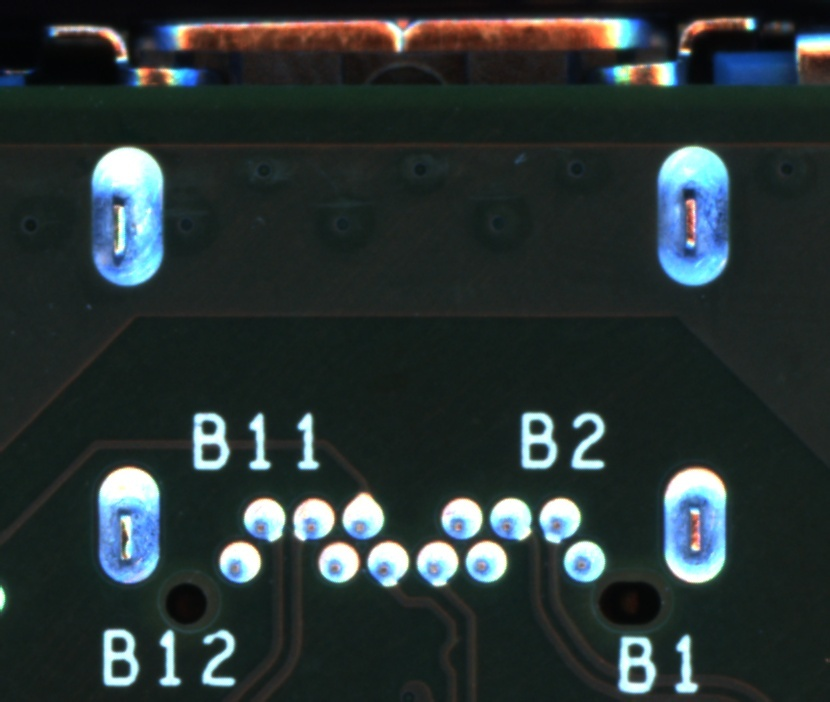SOLDER: (462, 536, 510, 587), (215, 537, 263, 588), (314, 538, 362, 589), (363, 540, 411, 591), (337, 491, 385, 542), (288, 493, 336, 544), (561, 535, 608, 586), (535, 494, 582, 545), (487, 493, 534, 544), (437, 492, 484, 543), (240, 493, 287, 544), (412, 540, 459, 590)
SOLDER2: (82, 142, 170, 291), (650, 447, 738, 595), (648, 142, 736, 290), (86, 452, 173, 600)
